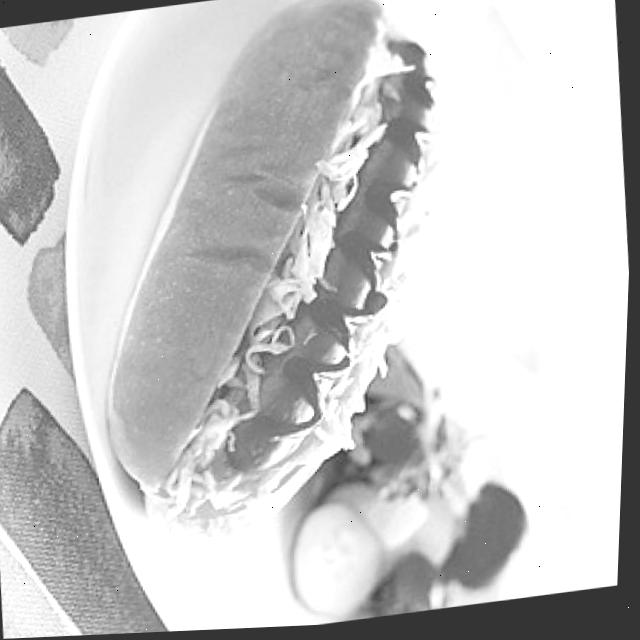汉堡快餐: (80, 0, 494, 562)
